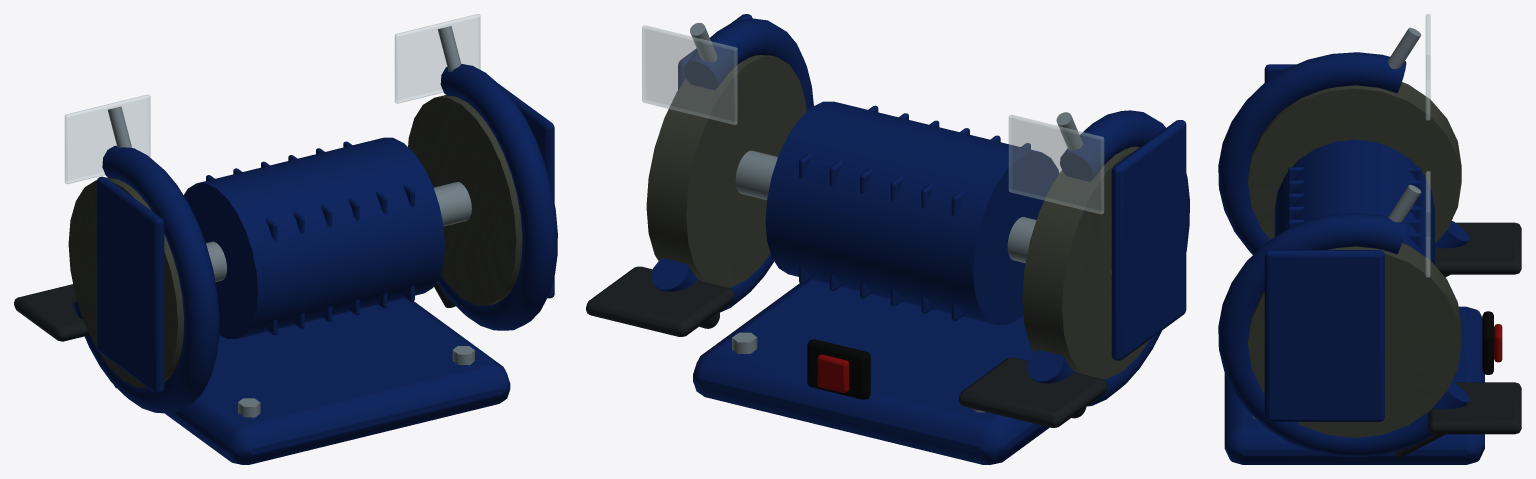
File: BenchGrinder.gltf
The picture shows the model from 3 angles, left to right: view 1: azimuth 30°, elevation 25°; view 2: azimuth 150°, elevation 25°; view 3: azimuth 270°, elevation 25°; orthographic projection. The views are drawn at different scales.
Visible parts, largest first — view 1: BenchGrinder__Body, BenchGrinder__Glass_Shield1, BenchGrinder__Glass_Shield-1; view 2: BenchGrinder__Body, BenchGrinder__Glass_Shield-1, BenchGrinder__Glass_Shield1; view 3: BenchGrinder__Body, BenchGrinder__Glass_Shield1, BenchGrinder__Glass_Shield-1.
Boxes of the visible parts, bbox=[...] form: BenchGrinder__Body: bbox=[14, 26, 557, 464]; BenchGrinder__Glass_Shield1: bbox=[394, 14, 480, 103]; BenchGrinder__Glass_Shield-1: bbox=[64, 94, 150, 184]; BenchGrinder__Body: bbox=[586, 14, 1189, 464]; BenchGrinder__Glass_Shield-1: bbox=[1008, 114, 1104, 214]; BenchGrinder__Glass_Shield1: bbox=[642, 25, 737, 124]; BenchGrinder__Body: bbox=[1218, 27, 1521, 464]; BenchGrinder__Glass_Shield1: bbox=[1425, 171, 1430, 277]; BenchGrinder__Glass_Shield-1: bbox=[1425, 14, 1430, 120].
Bounding box in the file's own units: 0.42 × 0.2874 × 0.2654.
Materials: 2 (1 with a texture image).
